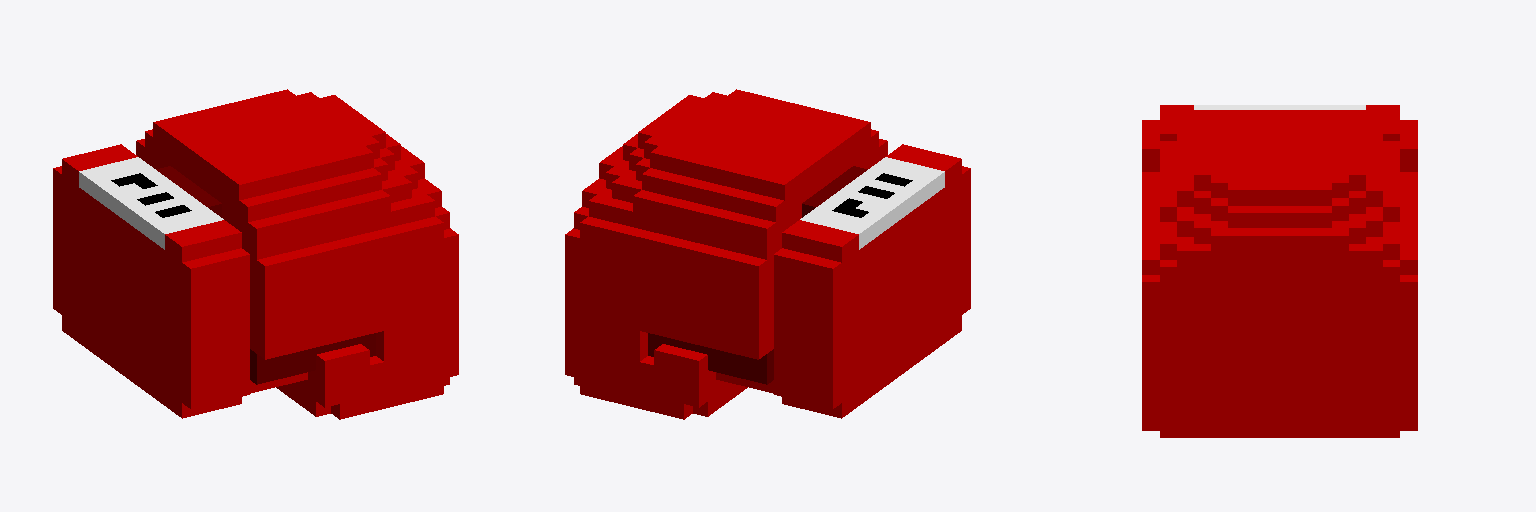
3 views of the same model, side by side, from view 1: azimuth 30°, elevation 25°; view 2: azimuth 150°, elevation 25°; view 3: azimuth 270°, elevation 25° (orthographic).
Bounding box in the file's own units: 18 × 15 × 16.
Materials: 1 (1 with a texture image).